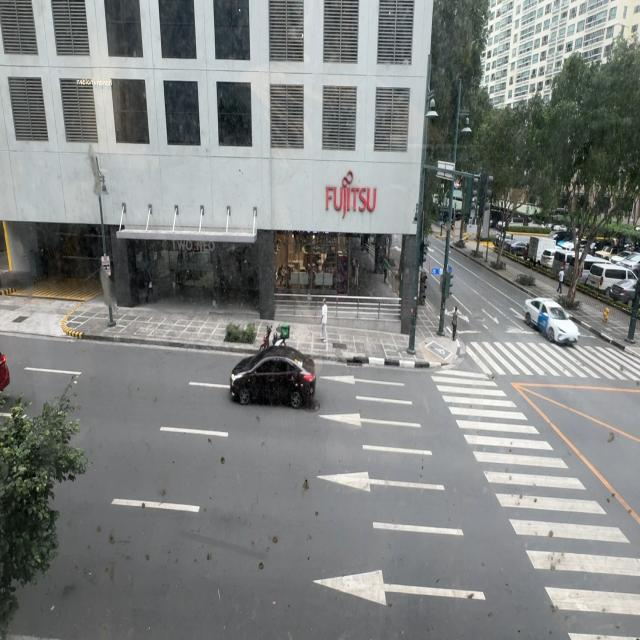pedestrain: (321, 298, 328, 343), (558, 267, 564, 292)
waiting: (451, 306, 459, 342)
